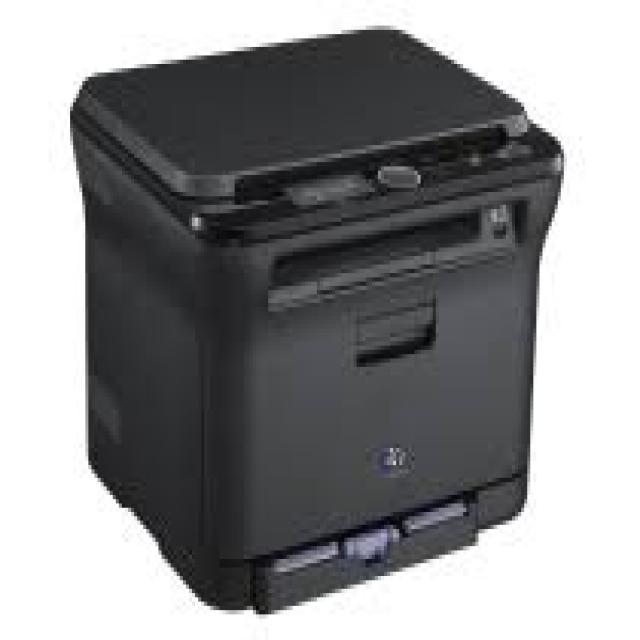printer: (65, 20, 569, 616)
